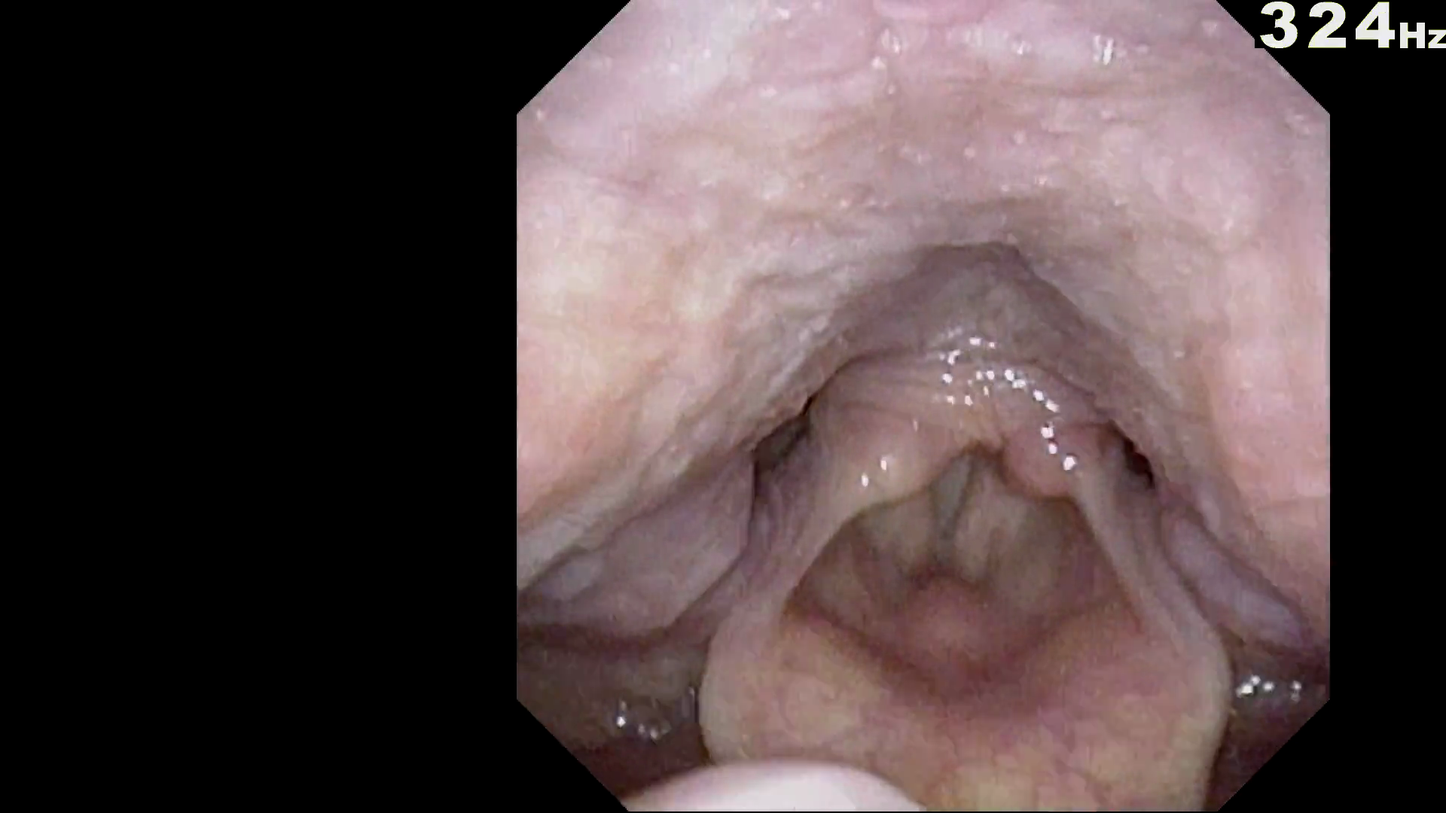epiglottis: (724, 649, 1203, 796)
trachea: (918, 490, 1037, 619)
